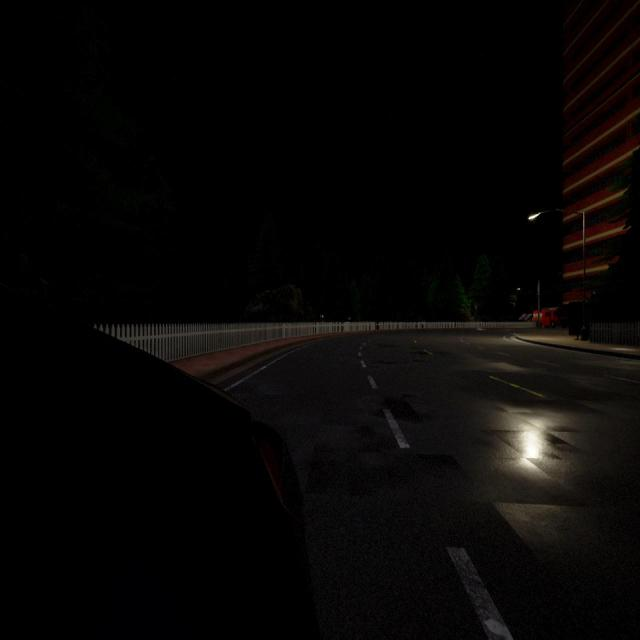Vehicle: (0, 288, 318, 640), (533, 309, 558, 329)
